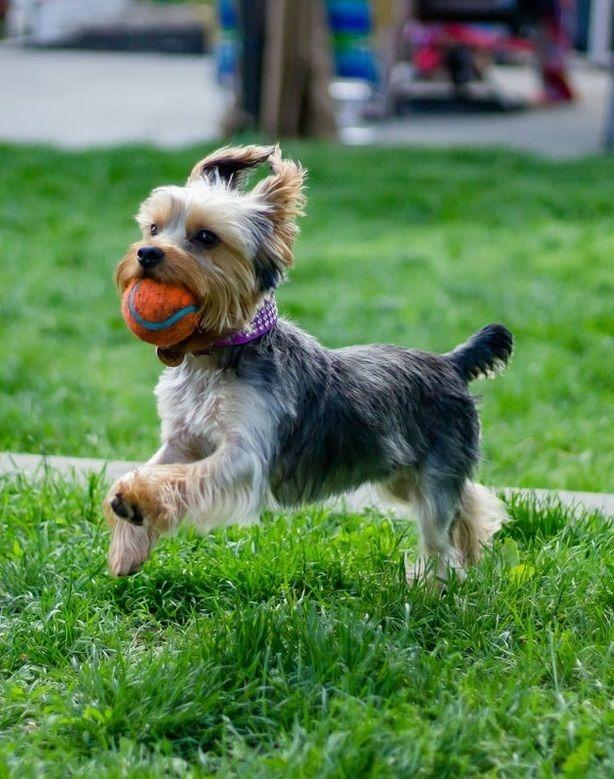adult_dog: (98, 138, 517, 592)
